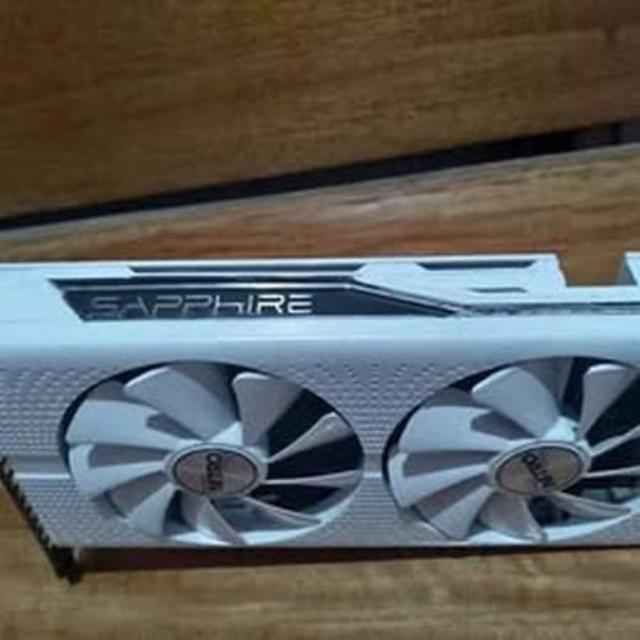GPU: (0, 218, 640, 582)
